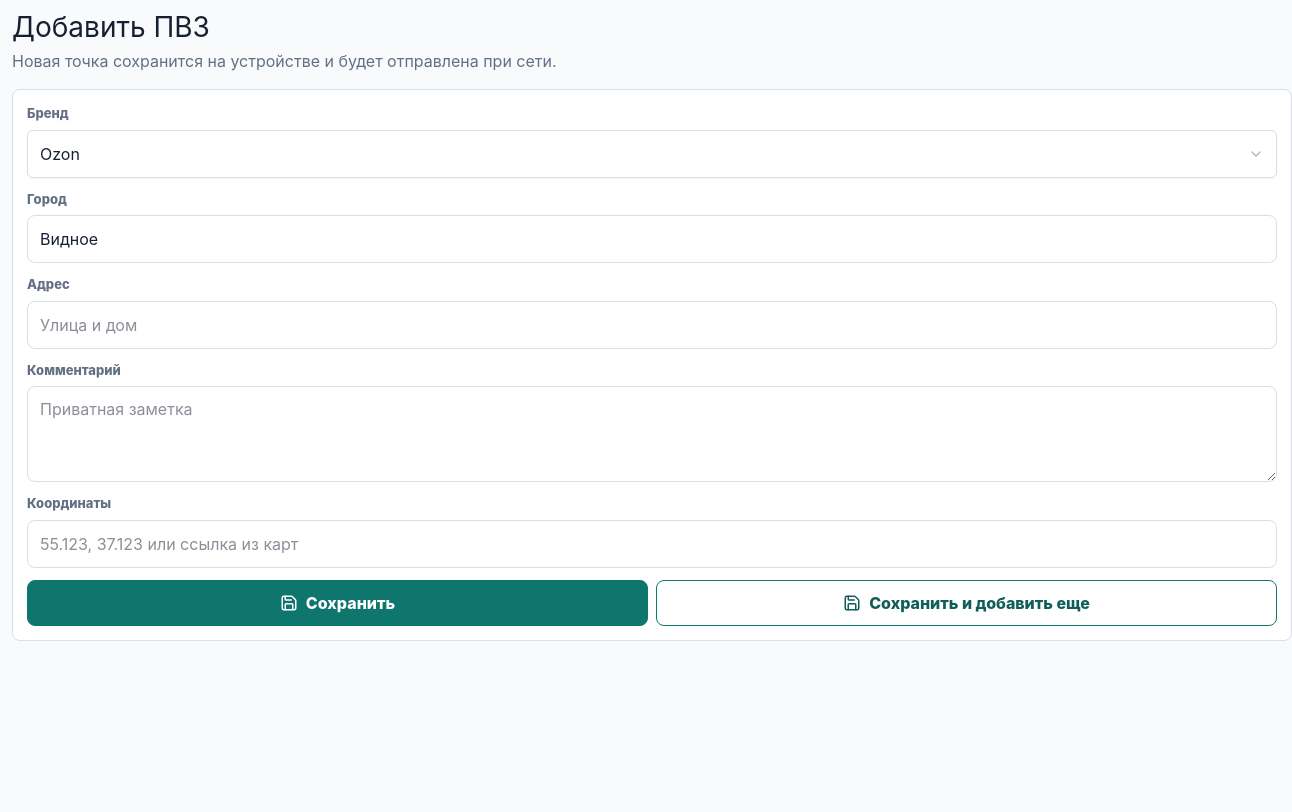
Scenario: AddPointClient › defaults city and saves canonical brand plus pasted coordinates locally
Expected: the field labelled "Город" holds "Видное", [27,215,1277,263]
In the field labelled "Адрес": x=652, y=325 [27,301,1277,349], type "Зеленые Аллеи, 9"
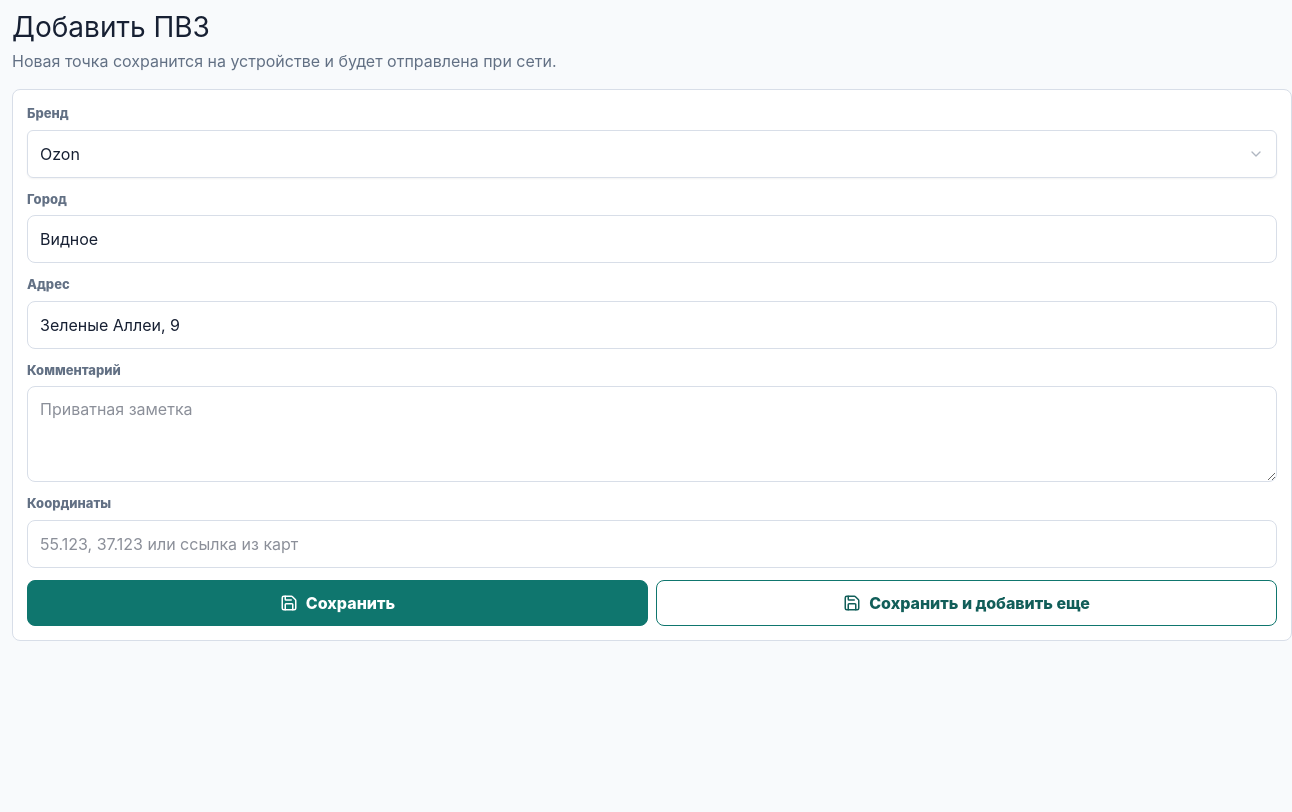
In the field labelled "Координаты": x=652, y=544 [27,520,1277,568], type "https://example.test/maps?ll=37.123,55.123"
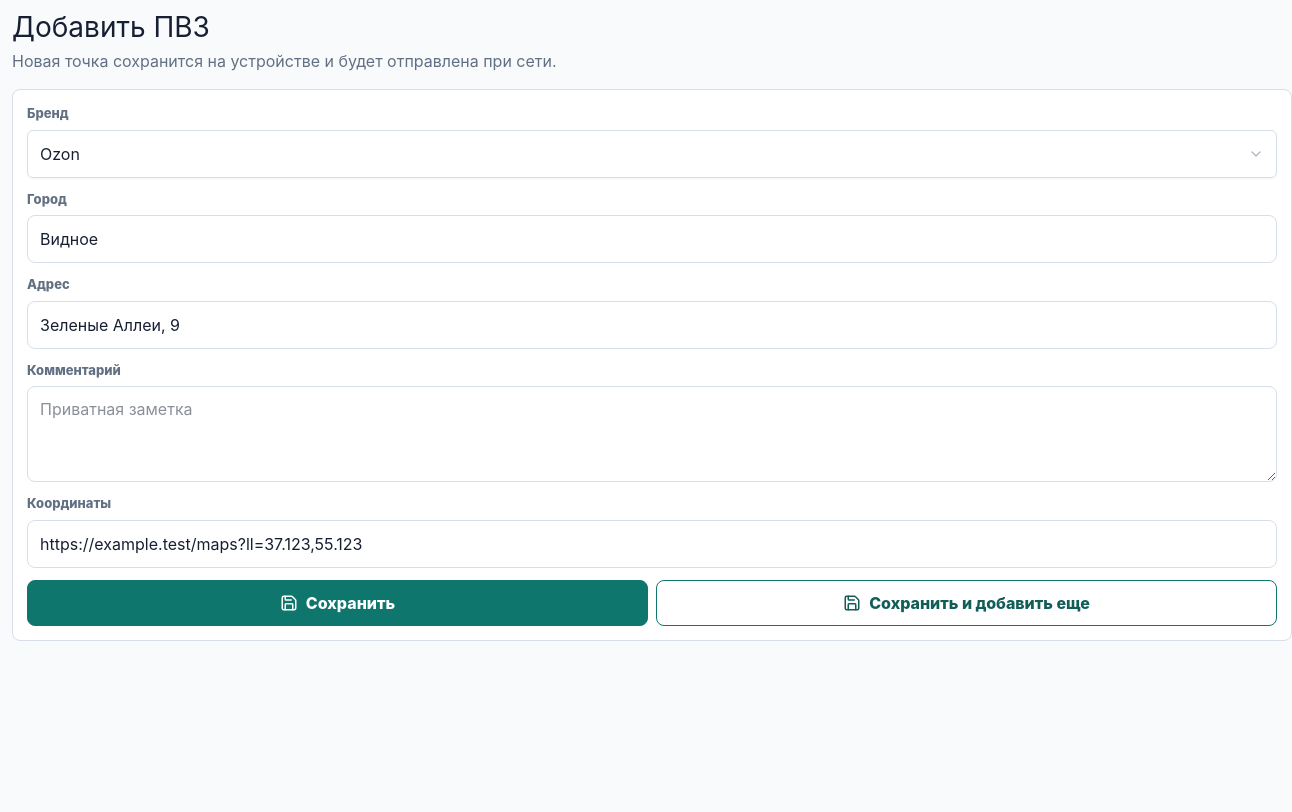
Click the button "Сохранить": x=338, y=603 [27,580,648,626]
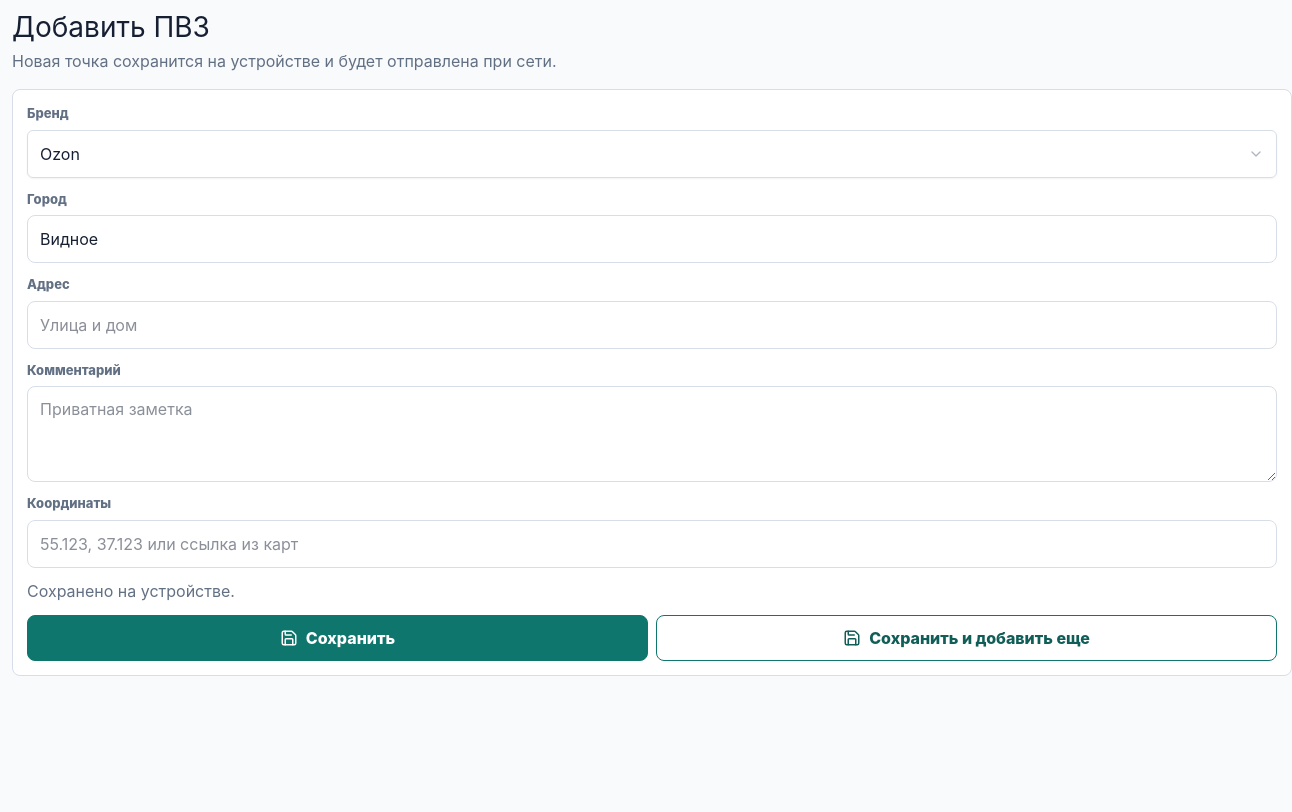
Now the text "Сохранено на устройстве." is shown, box [27,581,235,601]
